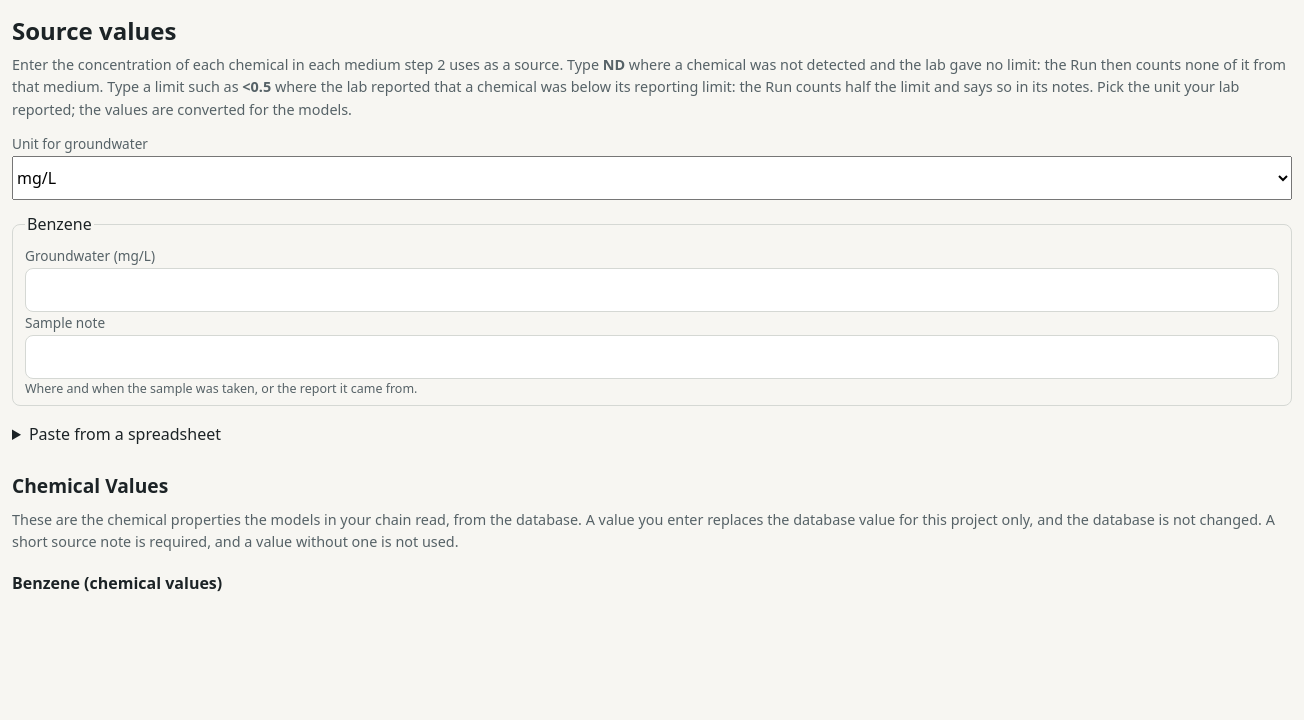
Scenario: SourcesStep, 3b › honours the decimal comma setting and keeps a keyboard with letters
The image size is (1304, 720).
Type "0,5" into the field labelled "Groundwater (mg/L)" at (652, 290), box [25, 268, 1279, 312]
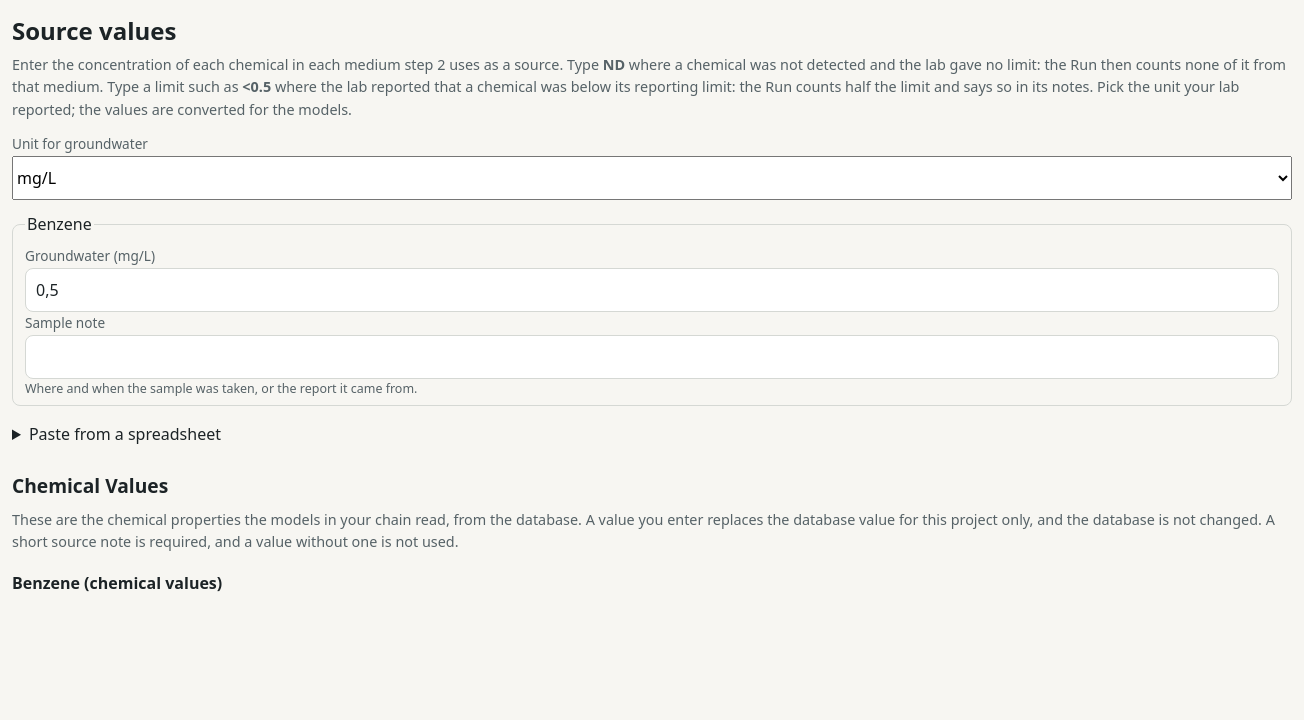
Replace the text in the field labelled "Groundwater (mg/L)" with "<0,5" at (652, 290), box [25, 268, 1279, 312]
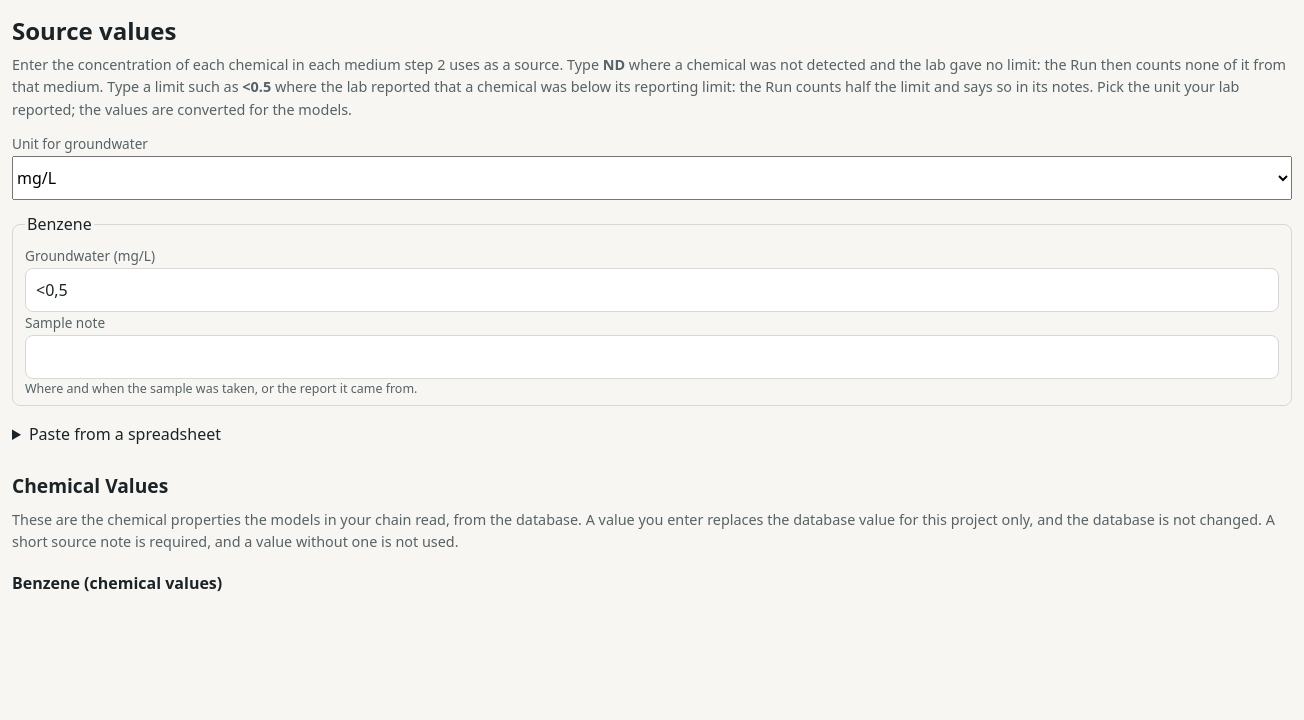
an entry that cannot be read either way is refused, once
Replace the text in the field labelled "Groundwater (mg/L)" with "1,2,3" at (652, 290), box [25, 268, 1279, 312]
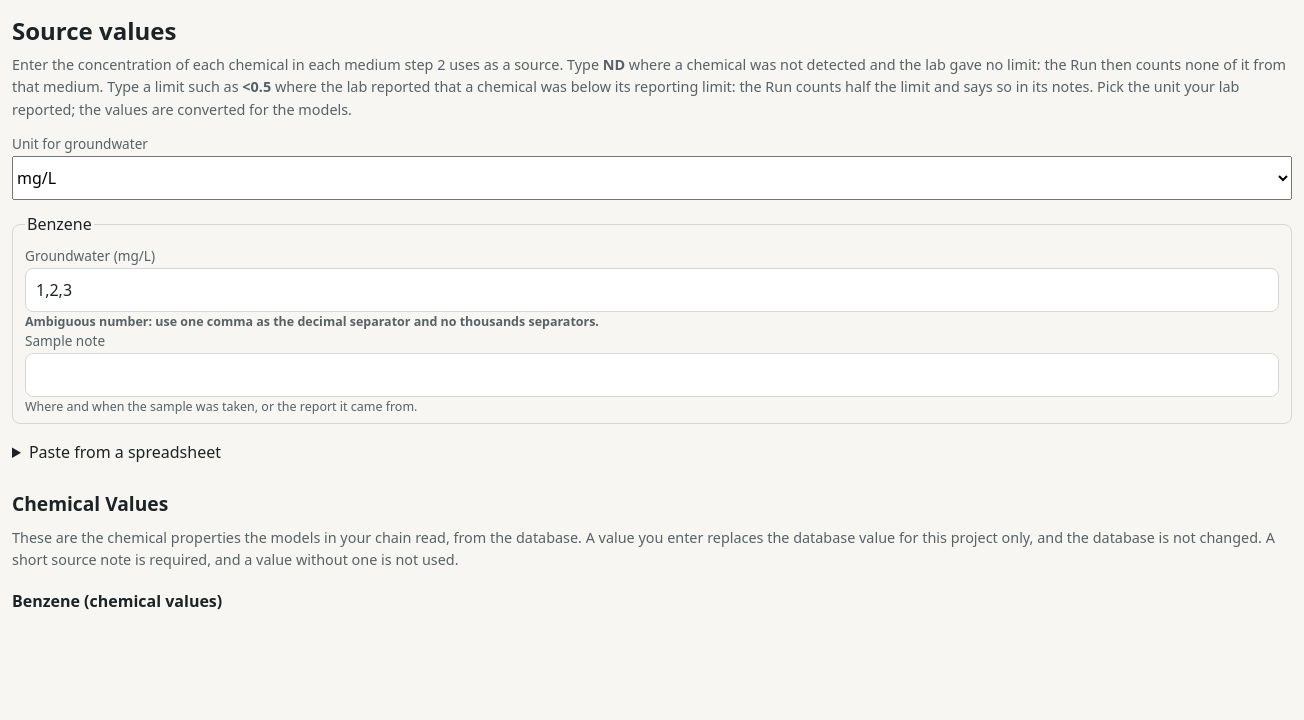
Check: the number of messages is 1, box [25, 313, 599, 330]
